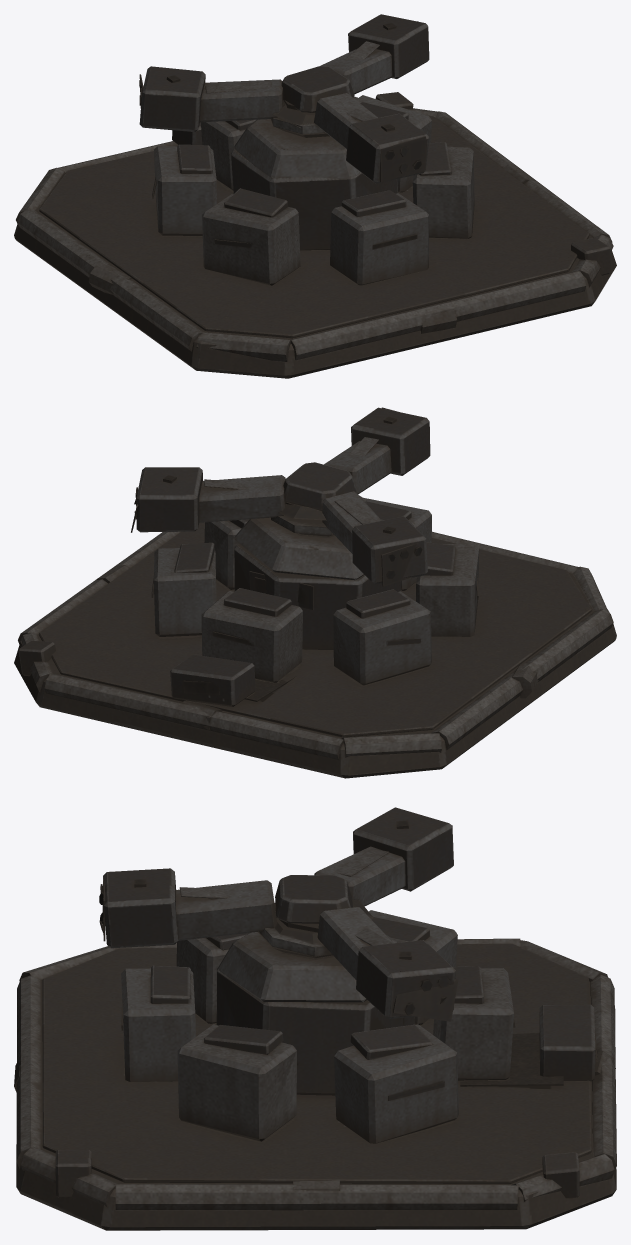
Rendered from chs_seaextractor_wreck.fbx.
3 views of the same model, one above another, from view 1: azimuth 30°, elevation 25°; view 2: azimuth 150°, elevation 25°; view 3: azimuth 270°, elevation 25° (orthographic). The views are drawn at different scales.
Visible parts, largest first — view 1: base_bar, drill_bar; view 2: base_bar, drill_bar; view 3: base_bar, drill_bar.
Boxes of the visible parts, bbox=[...] form: base_bar: bbox=[14, 92, 616, 378]; drill_bar: bbox=[139, 14, 429, 183]; base_bar: bbox=[14, 497, 616, 778]; drill_bar: bbox=[131, 407, 430, 586]; base_bar: bbox=[14, 910, 616, 1230]; drill_bar: bbox=[99, 807, 458, 1021].
Size of the model in its own units: 1553 by 811 by 1525.
2 materials, 2 textured.
